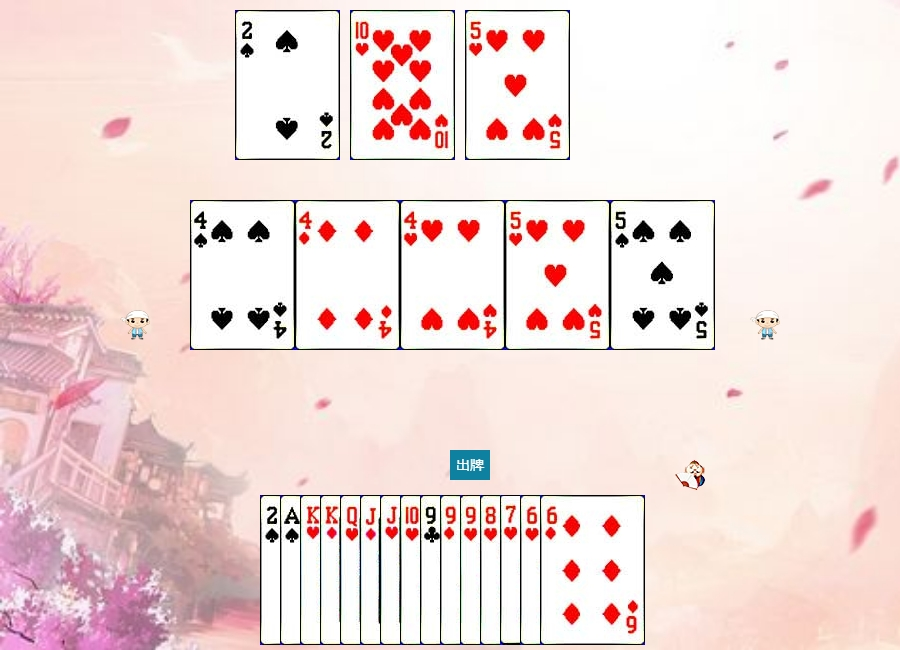10~3: (350, 10, 455, 160), (400, 495, 505, 645)
11~1: (360, 495, 465, 645)
11~3: (380, 495, 485, 645)
12~3: (340, 495, 445, 645)
13~1: (320, 495, 425, 645)
13~3: (300, 495, 405, 645)
14~4: (280, 495, 385, 645)
15~4: (235, 10, 340, 160), (260, 495, 365, 645)
4~1: (295, 200, 400, 350)
4~3: (400, 200, 505, 350)
4~4: (190, 200, 295, 350)
5~3: (465, 10, 570, 160), (505, 200, 610, 350)
5~4: (610, 200, 715, 350)
6~1: (540, 495, 645, 645)
6~3: (520, 495, 625, 645)
7~3: (500, 495, 605, 645)
8~3: (480, 495, 585, 645)
9~1: (440, 495, 545, 645)
9~2: (420, 495, 525, 645)
9~3: (460, 495, 565, 645)
